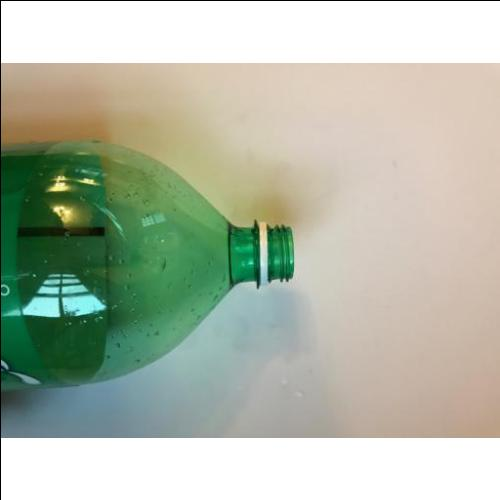plastic: (0, 144, 292, 390)
